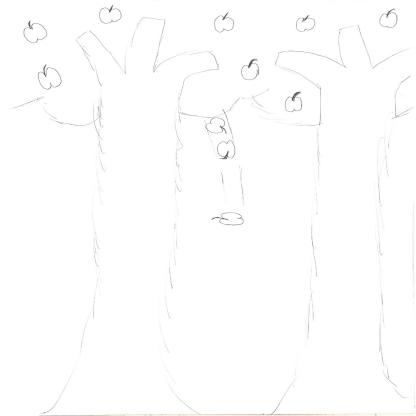apple: (32, 63, 62, 92), (20, 21, 50, 45), (210, 211, 246, 229), (96, 5, 124, 26), (211, 13, 239, 33), (377, 8, 402, 29), (216, 139, 240, 160), (281, 92, 305, 113), (291, 16, 320, 32), (240, 61, 260, 82), (204, 118, 224, 134)
branch_cut: (69, 15, 226, 86), (270, 25, 416, 95)
crown_cloud: (4, 1, 244, 127), (245, 1, 416, 127)
trunk_straight: (84, 134, 186, 341), (300, 140, 392, 355)
